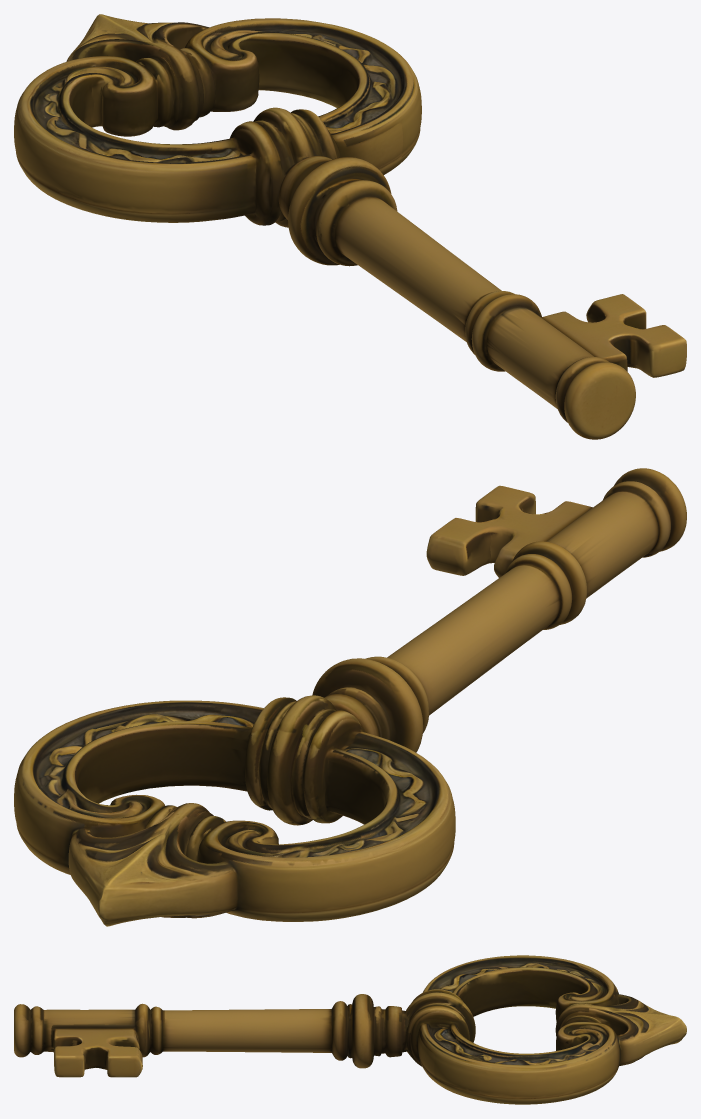
File: key.glb
3 views of the same model, one above another, from view 1: azimuth 30°, elevation 25°; view 2: azimuth 150°, elevation 25°; view 3: azimuth 270°, elevation 25° (orthographic). The views are drawn at different scales.
Visible parts, largest first — view 1: node_0; view 2: node_0; view 3: node_0.
Part boxes in pixels (x1,y1,x2,y2): node_0: (14,14,686,439); node_0: (14,468,686,926); node_0: (14,955,686,1104).
Bounding box in the file's own units: 0.4924 × 0.1438 × 1.2.
Materials: 1 (1 with a texture image).
